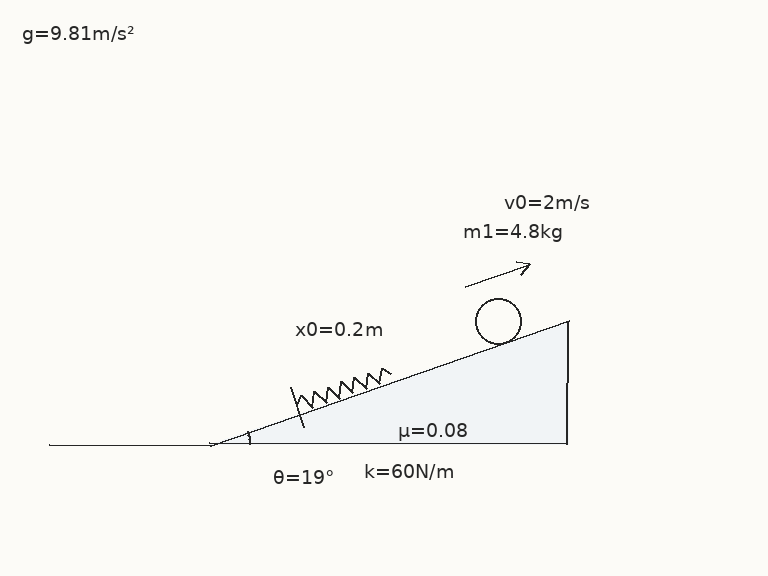ball: (473, 296, 523, 346)
ramp: (208, 319, 570, 446)
spring: (295, 366, 392, 409)
